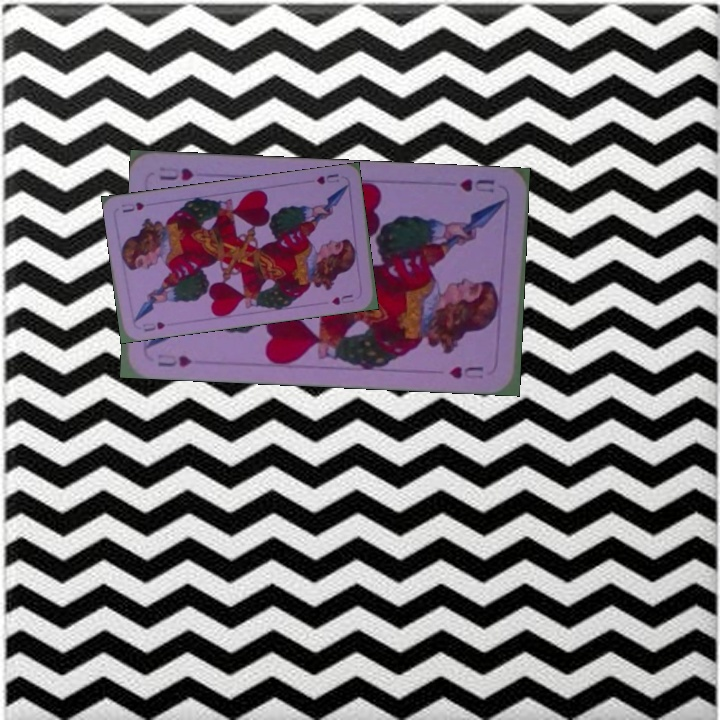HU: (456, 175, 497, 195), (153, 351, 194, 370), (312, 169, 342, 187), (138, 318, 168, 334)
